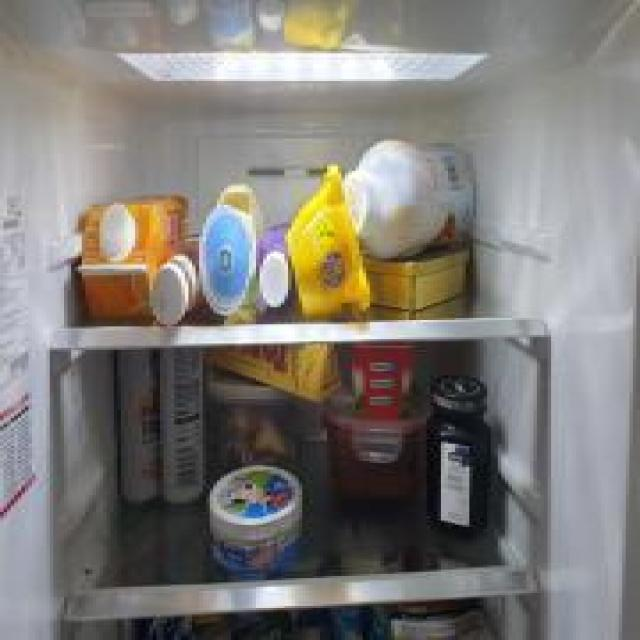butter: (347, 340, 418, 428)
cheese: (210, 463, 309, 580)
marmelade: (428, 369, 492, 540)
mayonaise: (196, 183, 260, 318)
